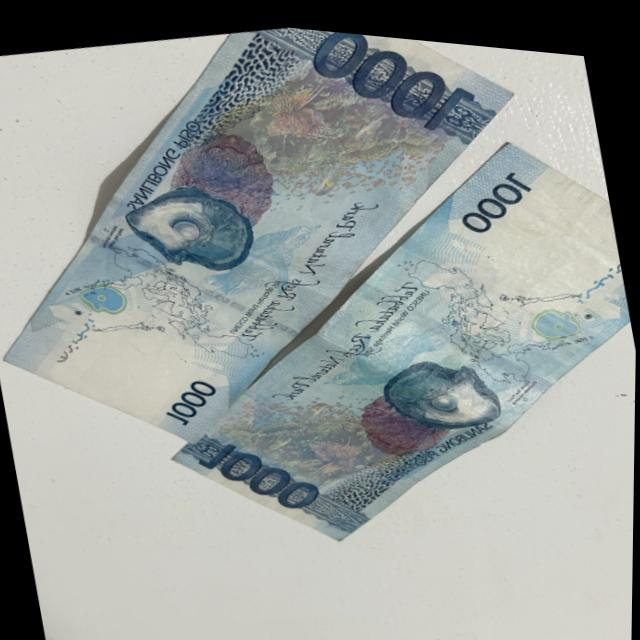1000_pearl: (127, 166, 255, 292), (378, 340, 507, 444)
1000_pearl_watermark: (525, 289, 584, 340), (79, 275, 132, 321)
